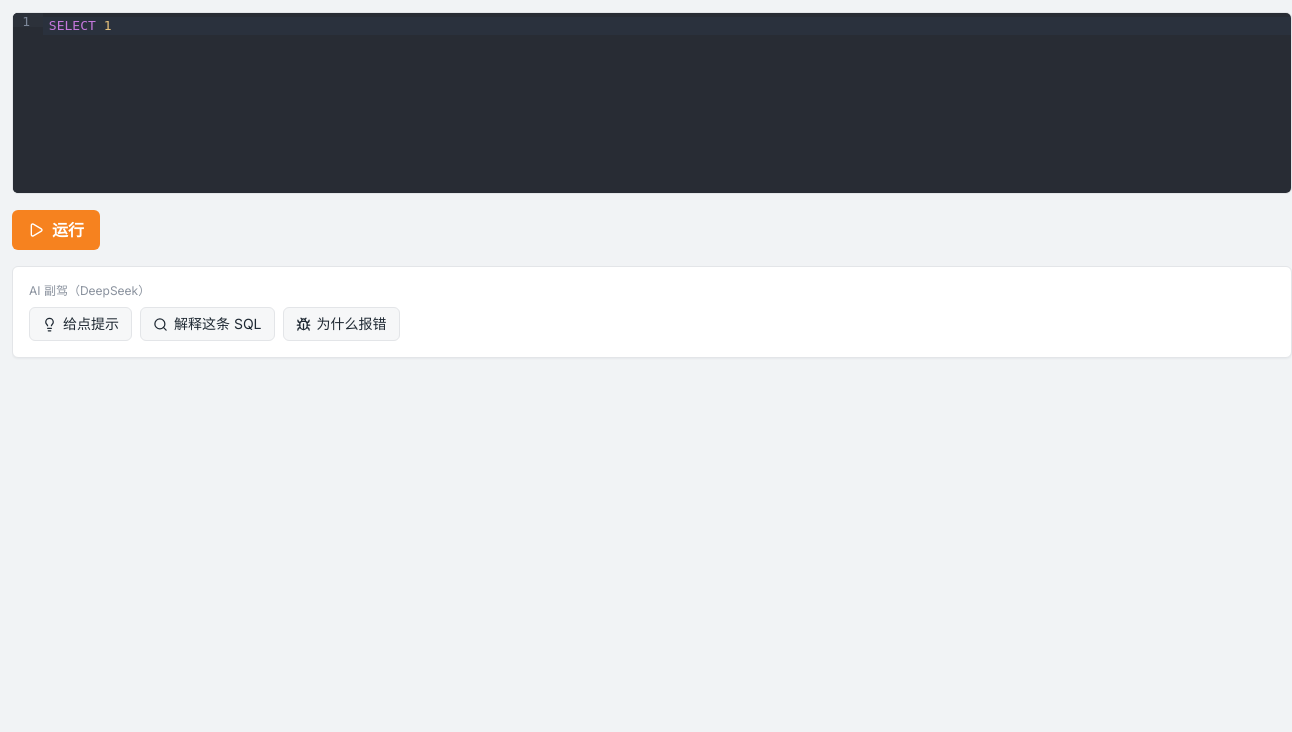
Test case: Playground › judges the current sql on run and shows a passing verdict
Click the button "运行": {"x": 56, "y": 230} [12,210,100,250]
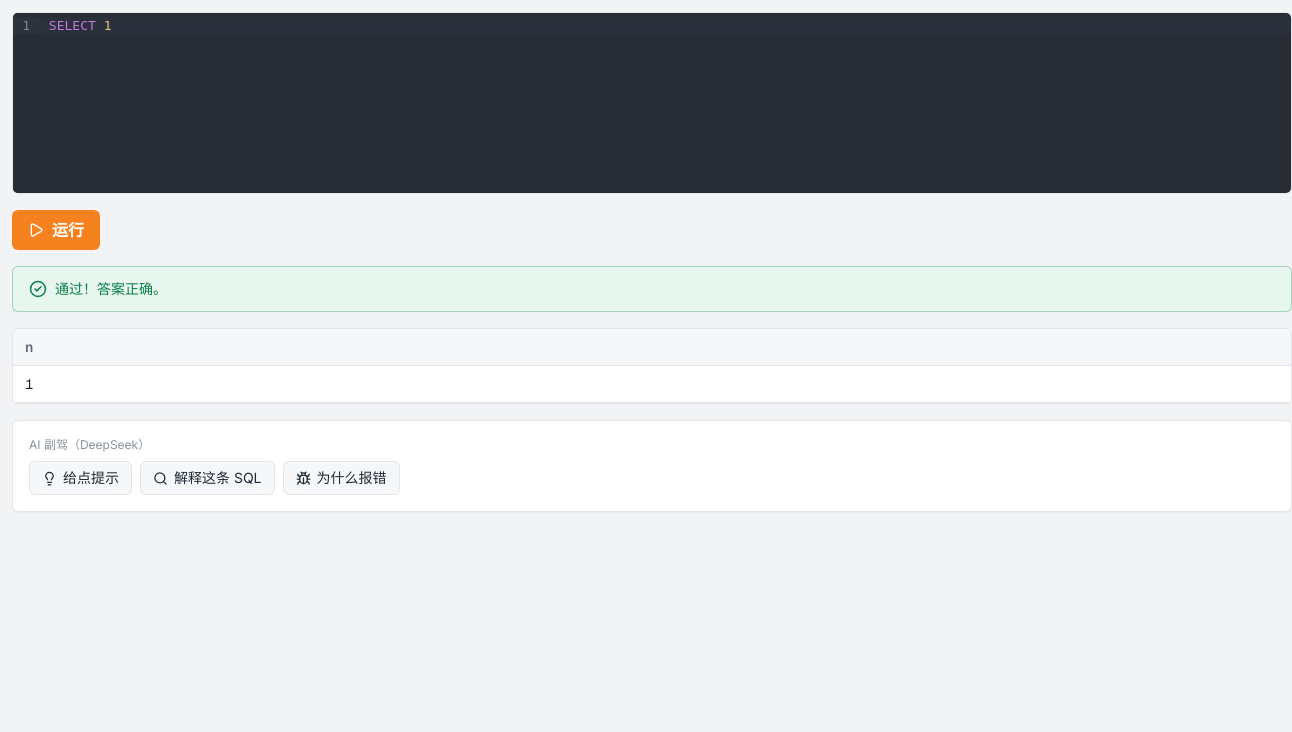
expect the message shows "通过": met, box [55,280,167,297]
